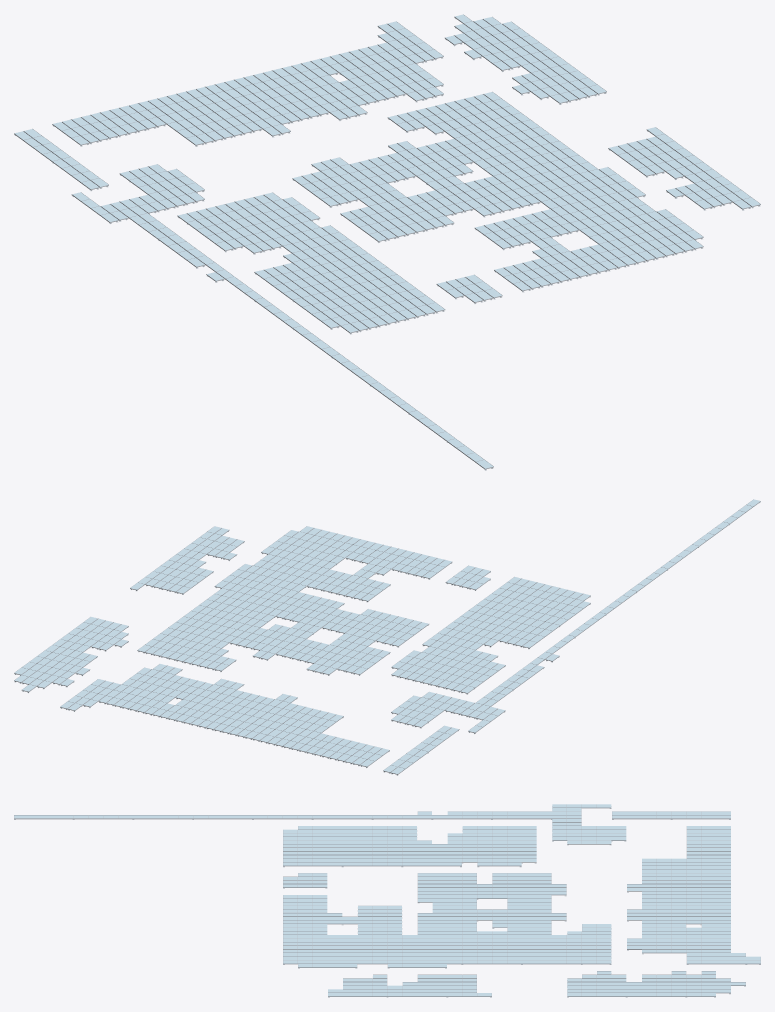
The model's file is SM_MPR3_SolarBank_01_1.fbx.
The picture shows the model from 3 angles, top to bottom: view 1: azimuth 30°, elevation 25°; view 2: azimuth 150°, elevation 25°; view 3: azimuth 270°, elevation 25°; orthographic projection. The views are drawn at different scales.
Parts seen in each view (by area): view 1: SM_MPR3_SolarBank_01_1; view 2: SM_MPR3_SolarBank_01_1; view 3: SM_MPR3_SolarBank_01_1.
Part boxes in pixels (x1=…): SM_MPR3_SolarBank_01_1: x1=14, y1=14, x2=760, y2=470; SM_MPR3_SolarBank_01_1: x1=14, y1=499, x2=760, y2=775; SM_MPR3_SolarBank_01_1: x1=14, y1=804, x2=760, y2=997.
Size of the model in its own units: 5929 by 9744 by 24.
